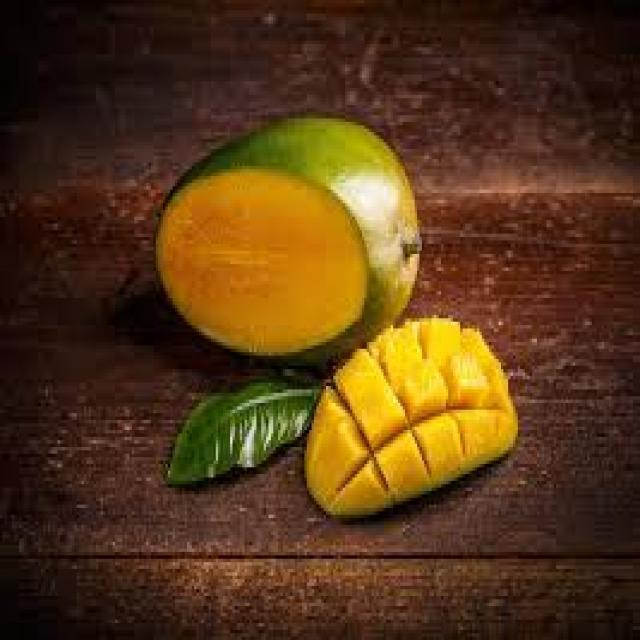Mango: (151, 108, 422, 366), (302, 315, 518, 518)
